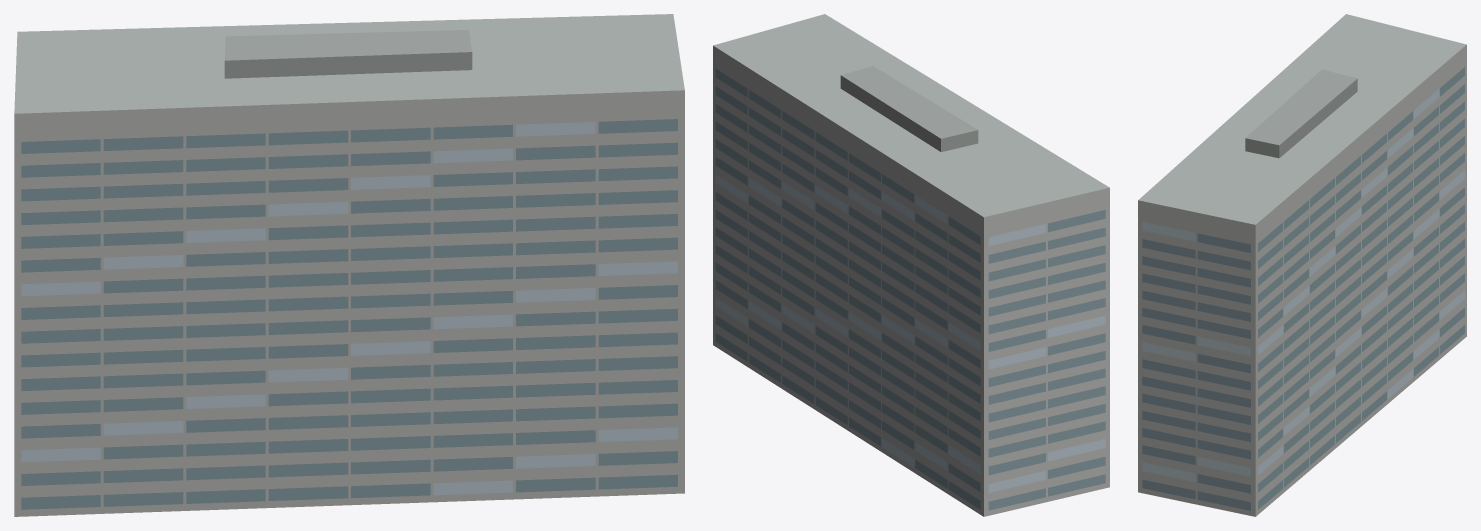
File: apt-a10025259.glb
3 views of the same model, side by side, from view 1: azimuth 30°, elevation 25°; view 2: azimuth 150°, elevation 25°; view 3: azimuth 270°, elevation 25° (orthographic). The views are drawn at different scales.
Visible parts, largest first — view 1: apt-a10025259; view 2: apt-a10025259; view 3: apt-a10025259.
Part boxes in pixels (box(x1,y1,x2,y2)): apt-a10025259: box(14, 14, 684, 516); apt-a10025259: box(713, 14, 1109, 516); apt-a10025259: box(1138, 14, 1466, 516).
Size of the model in its own units: 83 by 56 by 54.67.
